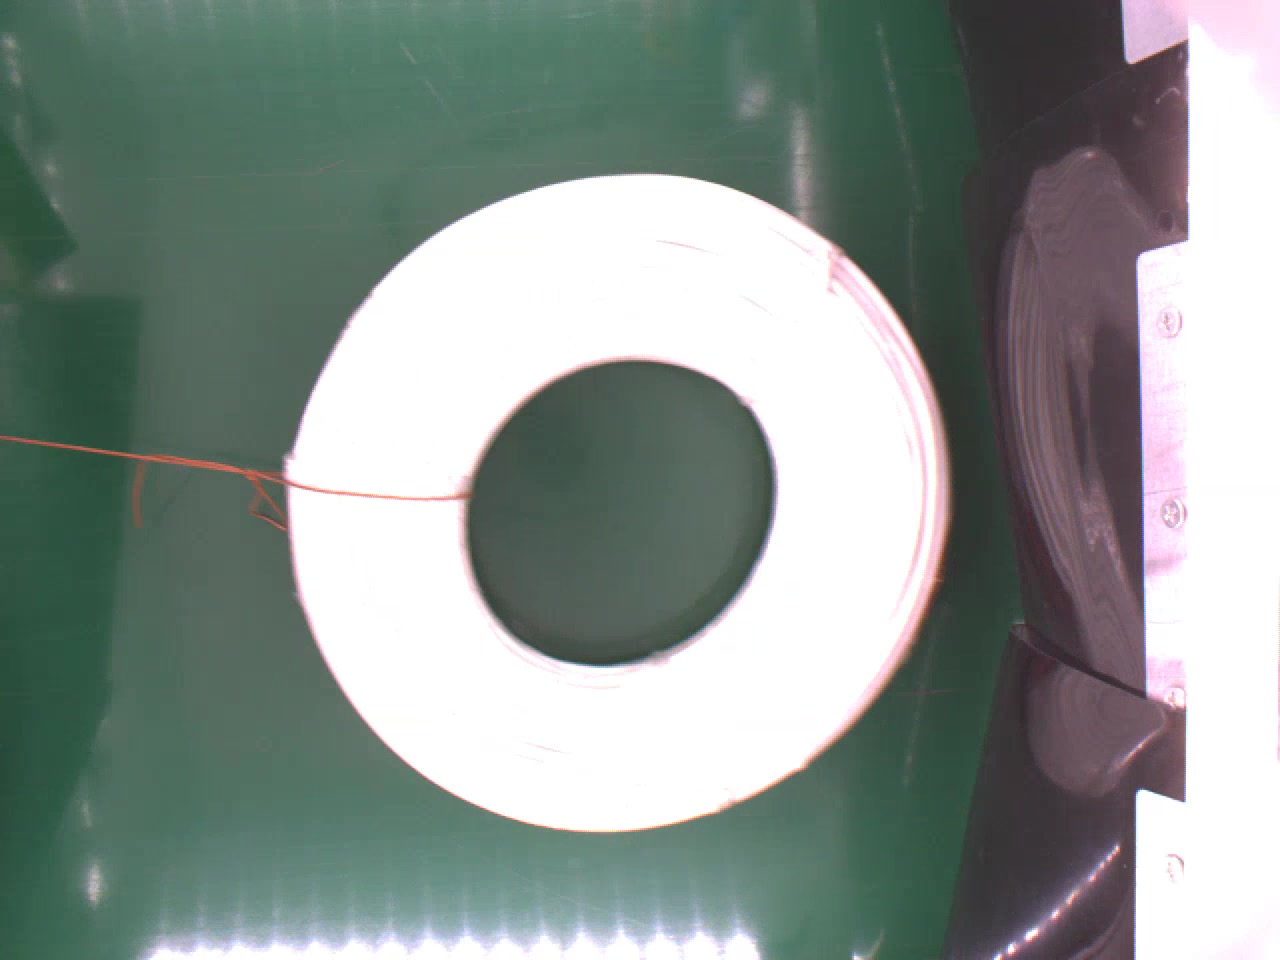white: (272, 166, 954, 838)
